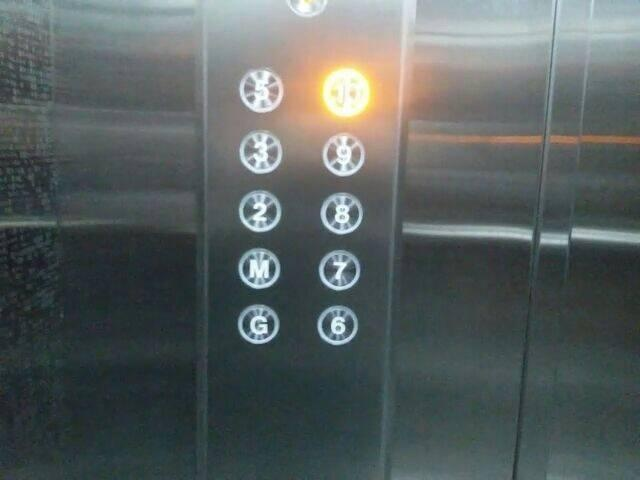10: (320, 65, 373, 115)
2: (238, 188, 283, 232)
3: (239, 128, 284, 173)
5: (239, 66, 285, 114)
6: (316, 303, 359, 345)
7: (318, 249, 362, 290)
8: (320, 190, 365, 234)
9: (321, 130, 366, 176)
G: (237, 304, 280, 344)
M: (237, 245, 281, 288)
